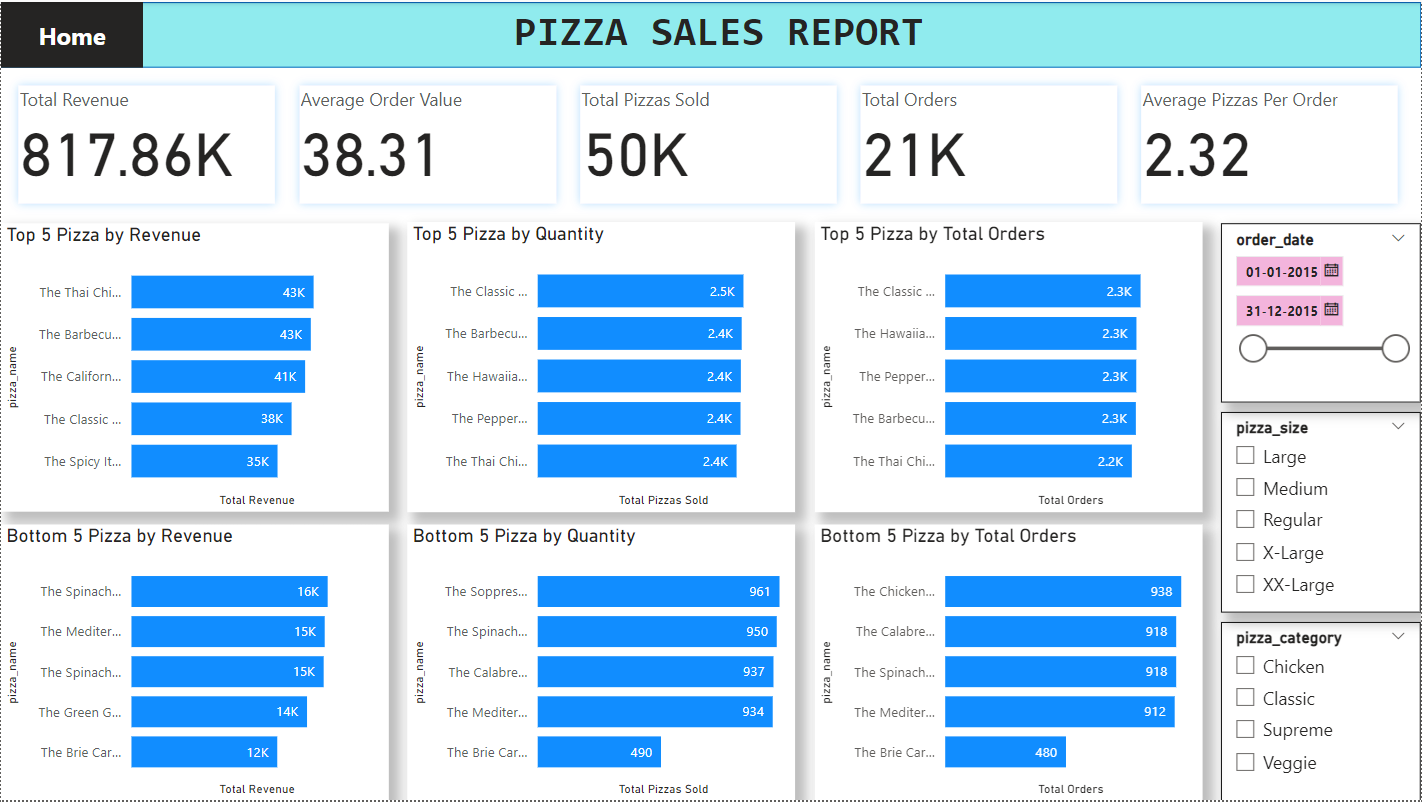

What the dashboard file says about the page in this screenshot:
{"tool":"powerbi","page":{"name":"Top 5","canvas":[1280,720],"ordinal":1},"visuals":[{"type":"shape","box":[0,0,1280.2,59.3],"z":0},{"type":"cardVisual","fields":{"Data":["pizza_sales pizza_sales_updated.Total Revenue","pizza_sales pizza_sales_updated.Average Order Value","pizza_sales pizza_sales_updated.Total Pizzas Sold","pizza_sales pizza_sales_updated.Total Orders","pizza_sales pizza_sales_updated.Average Pizzas Per Order"]},"box":[0,59.9,1279.9,138.1],"z":1000},{"type":"textbox","box":[457.2,0,387.5,59.9],"z":2000},{"type":"slicer","fields":{"Values":["pizza_sales pizza_sales_updated.order_date"]},"box":[1100.2,199.3,179.7,161.4],"z":3000},{"type":"pageNavigator","box":[0,0,128,59.9],"z":4000},{"type":"barChart","title":"Top 5 Pizza by Revenue","fields":{"Category":["pizza_sales pizza_sales_updated.pizza_name"],"Y":["pizza_sales pizza_sales_updated.Total Revenue"]},"box":[0,199.3,349.6,260.4],"z":5000},{"type":"barChart","title":"Bottom 5 Pizza by Revenue","fields":{"Category":["pizza_sales pizza_sales_updated.pizza_name"],"Y":["pizza_sales pizza_sales_updated.Total Revenue"]},"box":[0,470.6,349.6,249.4],"z":6000},{"type":"barChart","title":"Top 5 Pizza by Quantity","fields":{"Category":["pizza_sales pizza_sales_updated.pizza_name"],"Y":["pizza_sales pizza_sales_updated.Total Pizzas Sold"]},"box":[366.7,198,349.6,261.6],"z":7000},{"type":"barChart","title":"Bottom 5 Pizza by Quantity","fields":{"Category":["pizza_sales pizza_sales_updated.pizza_name"],"Y":["pizza_sales pizza_sales_updated.Total Pizzas Sold"]},"box":[366.7,470.6,349.6,249.4],"z":8000},{"type":"barChart","title":"Top 5 Pizza by Total Orders","fields":{"Category":["pizza_sales pizza_sales_updated.pizza_name"],"Y":["pizza_sales pizza_sales_updated.Total Orders"]},"box":[733.4,198,349.6,261.6],"z":9000},{"type":"barChart","title":"Bottom 5 Pizza by Total Orders","fields":{"Category":["pizza_sales pizza_sales_updated.pizza_name"],"Y":["pizza_sales pizza_sales_updated.Total Orders"]},"box":[733.4,470.6,349.6,249.4],"z":10000},{"type":"slicer","fields":{"Values":["pizza_sales pizza_sales_updated.pizza_size"]},"box":[1100.2,369.2,179.7,180.9],"z":11000},{"type":"slicer","fields":{"Values":["pizza_sales pizza_sales_updated.pizza_category"]},"box":[1100.2,558.6,179.7,161.4],"z":12000}]}

Visuals, with their boxes in screenshot pixels (x1, y1, x2, y2), scaled from the page's 1280x720 canvas onto the 1422x802 screenshot:
shape: bbox=(0, 0, 1421, 66)
cardVisual - pizza_sales pizza_sales_updated.Total Revenue x pizza_sales pizza_sales_updated.Average Order Value: bbox=(0, 67, 1421, 221)
textbox: bbox=(508, 0, 938, 67)
slicer - pizza_sales pizza_sales_updated.order_date: bbox=(1222, 222, 1421, 402)
pageNavigator: bbox=(0, 0, 142, 67)
"Top 5 Pizza by Revenue" barChart: bbox=(0, 222, 388, 512)
"Bottom 5 Pizza by Revenue" barChart: bbox=(0, 524, 388, 801)
"Top 5 Pizza by Quantity" barChart: bbox=(407, 221, 796, 512)
"Bottom 5 Pizza by Quantity" barChart: bbox=(407, 524, 796, 801)
"Top 5 Pizza by Total Orders" barChart: bbox=(815, 221, 1203, 512)
"Bottom 5 Pizza by Total Orders" barChart: bbox=(815, 524, 1203, 801)
slicer - pizza_sales pizza_sales_updated.pizza_size: bbox=(1222, 411, 1421, 613)
slicer - pizza_sales pizza_sales_updated.pizza_category: bbox=(1222, 622, 1421, 801)
